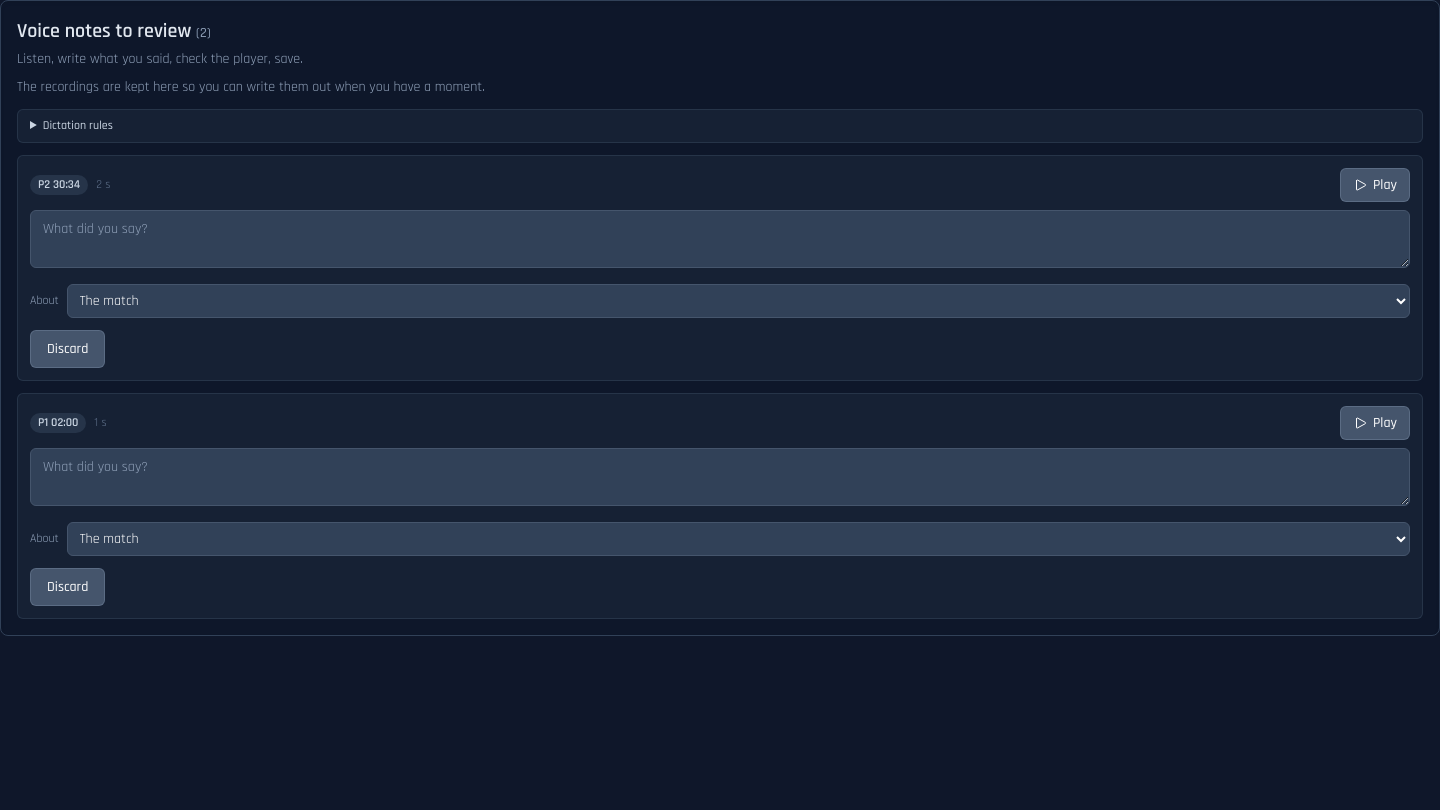
DictationInbox › guesses the player from the typed text (Finnish inflection included)
The width and height of the screenshot is (1440, 810).
In the text box with test id "dictation-text": point(720, 239) x1=30 y1=210 x2=1410 y2=268, type "Emman syöttö paineen alla"
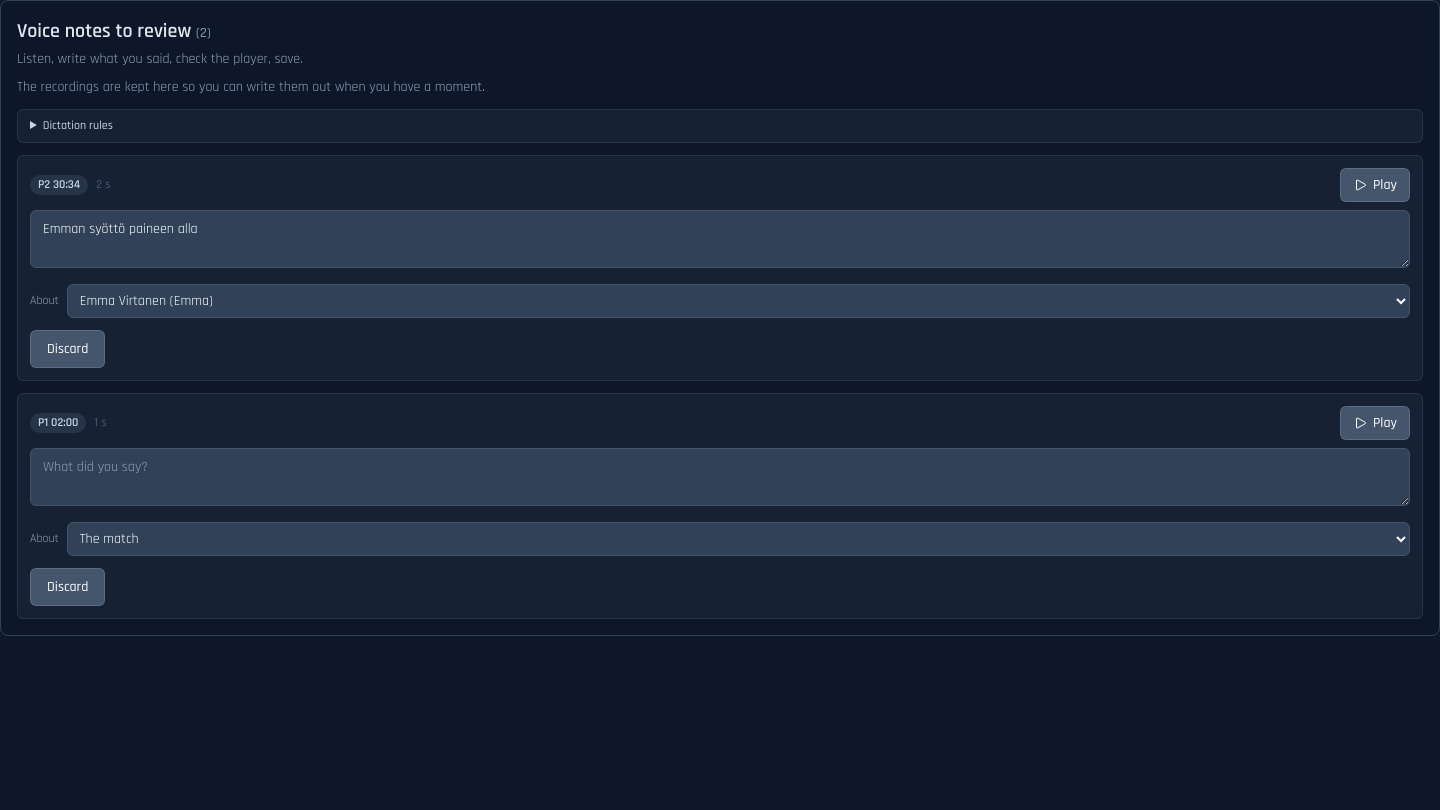
Check: the dropdown with test id "dictation-player" shows "Emma Virtanen (Emma)", box x1=67 y1=284 x2=1410 y2=318
